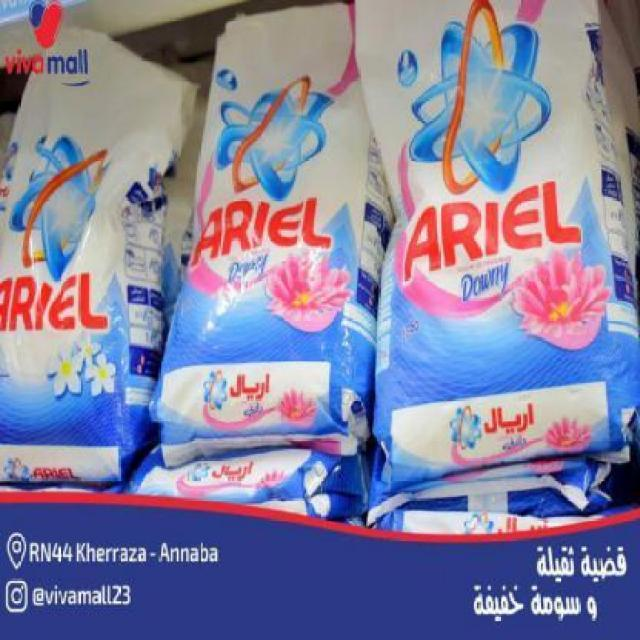Detergent: (354, 0, 630, 483), (158, 16, 376, 442), (0, 5, 164, 482)
